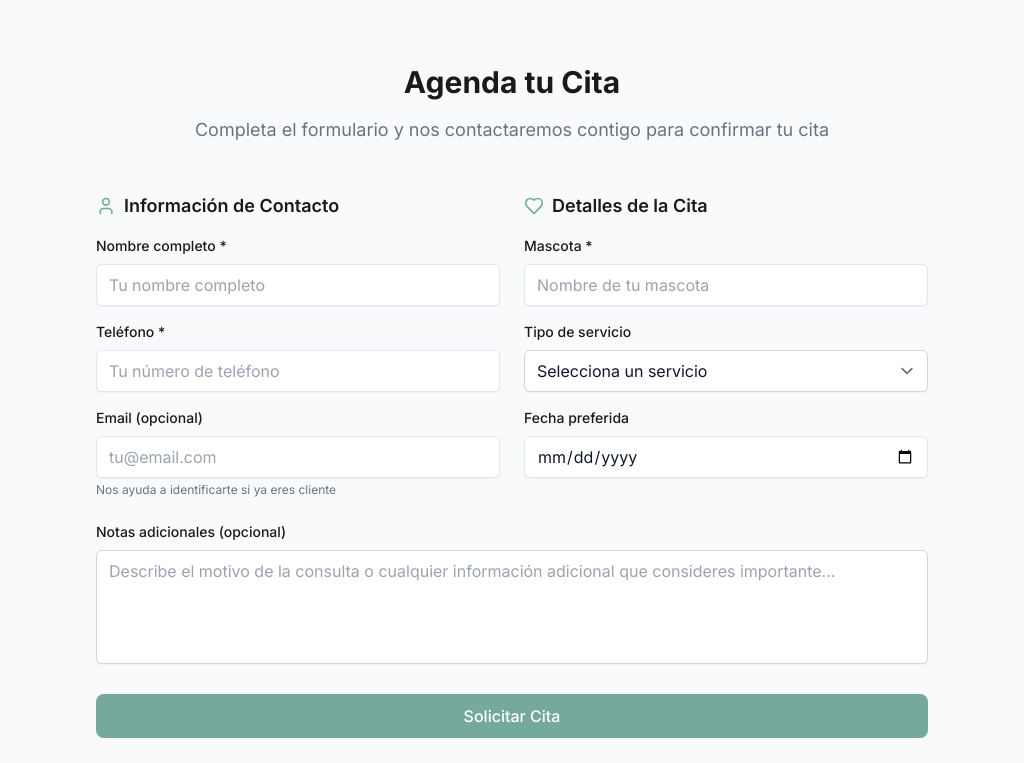
Test: QuickBooking › Date Selection › should show message for non-working day
The image size is (1024, 763).
In the date field labelled "Fecha preferida": (726, 457) [524, 436, 928, 478], type "2025-02-16"
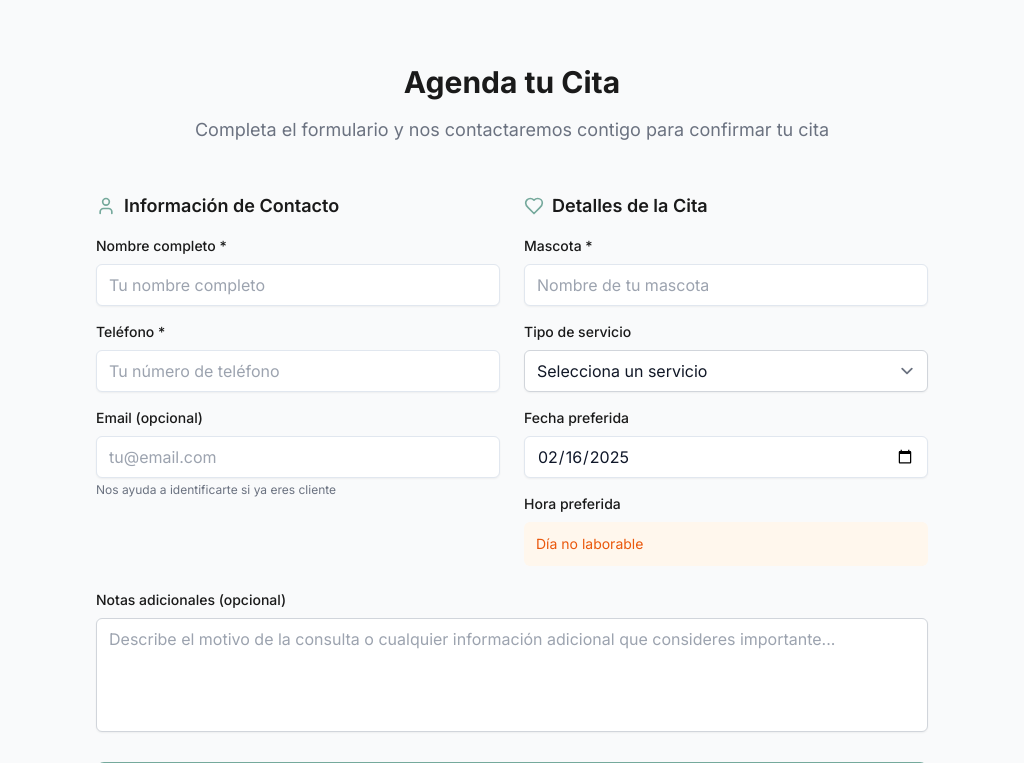
Expected: the text "Día no laborable" is shown, [524, 522, 928, 566]
